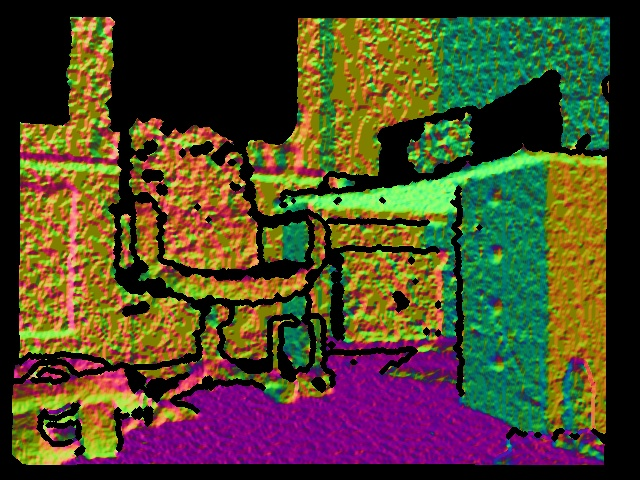station: (268, 316, 334, 399)
